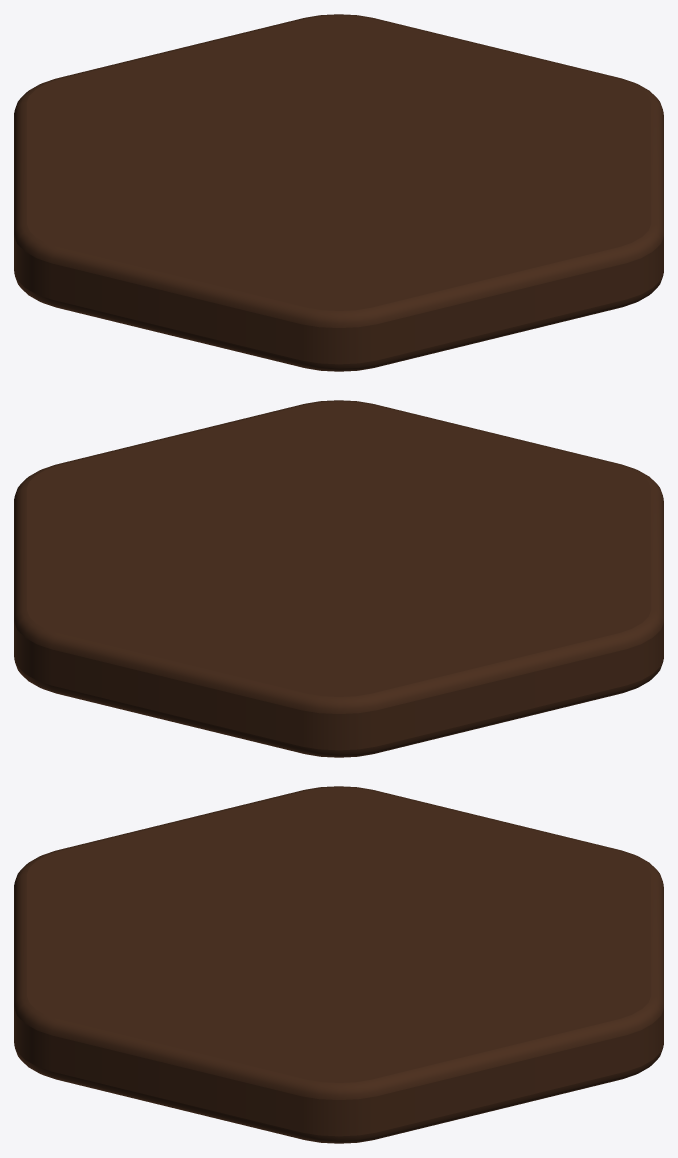
File: HexRotated.fbx
3 renders of one model, top to bottom at view 1: azimuth 30°, elevation 25°; view 2: azimuth 150°, elevation 25°; view 3: azimuth 270°, elevation 25°, orthographic.
Parts seen in each view (by area): view 1: UV Coin; view 2: UV Coin; view 3: UV Coin.
Boxes of the visible parts, x1,y1,x2,y2 form: UV Coin: [14, 14, 663, 371]; UV Coin: [14, 400, 663, 757]; UV Coin: [14, 786, 663, 1143].
Size of the model in its own units: 102 by 9.2 by 91.12.
